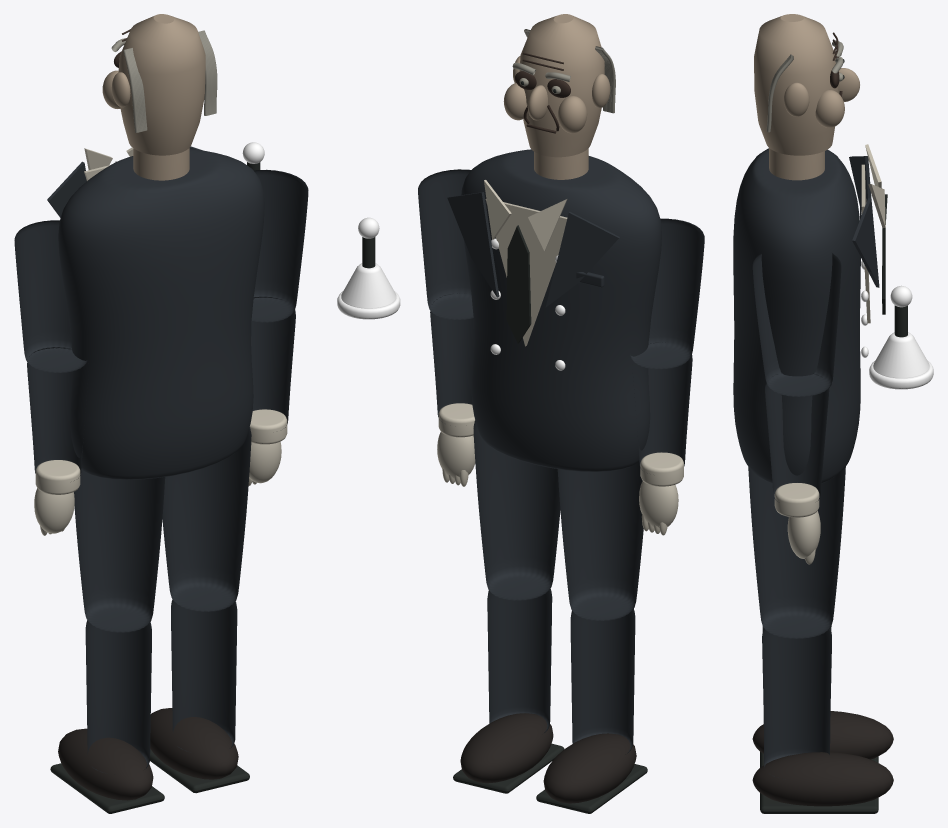
The model's file is butler.glb.
3 views of the same model, side by side, from view 1: azimuth 30°, elevation 25°; view 2: azimuth 150°, elevation 25°; view 3: azimuth 270°, elevation 25° (orthographic). The views are drawn at different scales.
Parts seen in each view (by area): view 1: ButlerJacket, ButlerTrouserL, ButlerTrouserR, ButlerSkull, ButlerLowerTrouserR, ButlerLowerTrouserL, ButlerSleeveL, ButlerSleeveR, ButlerShoeL, ButlerShoeR, ButlerCuffSleeveL, ButlerCuffSleeveR (+9 smaller); view 2: ButlerJacket, ButlerTrouserL, ButlerTrouserR, ButlerLowerTrouserL, ButlerLowerTrouserR, ButlerSkull, ButlerSleeveL, ButlerSleeveR, ButlerShoeL, ButlerShoeR, ButlerCuffSleeveL, ButlerCuffSleeveR (+17 smaller); view 3: ButlerJacket, ButlerTrouserR, ButlerSkull, ButlerLowerTrouserR, ButlerShoeR, ButlerSleeveR, ButlerCuffSleeveR, ButlerShoeL, Bell body, ButlerWhiteCuffR, ButlerNeck, ButlerSoleR (+12 smaller).
Boxes of the visible parts, x1,y1,x2,y2 form: ButlerJacket: (58, 149, 264, 479); ButlerTrouserL: (74, 469, 165, 632); ButlerTrouserR: (162, 427, 251, 611); ButlerSkull: (118, 14, 205, 155); ButlerLowerTrouserR: (171, 599, 237, 752); ButlerLowerTrouserL: (85, 620, 151, 773); ButlerSleeveL: (14, 220, 87, 372); ButlerSleeveR: (251, 169, 308, 322); ButlerShoeL: (58, 728, 153, 800); ButlerShoeR: (150, 708, 238, 779); ButlerCuffSleeveL: (27, 347, 88, 480); ButlerCuffSleeveR: (251, 296, 295, 427); ButlerJacket: (461, 149, 661, 471); ButlerTrouserL: (557, 462, 643, 620); ButlerTrouserR: (473, 420, 560, 600); ButlerLowerTrouserL: (570, 609, 635, 754); ButlerLowerTrouserR: (487, 589, 552, 732); ButlerSkull: (519, 14, 604, 157); ButlerSleeveL: (630, 218, 704, 369); ButlerSleeveR: (418, 169, 473, 320); ButlerShoeL: (543, 733, 636, 803); ButlerShoeR: (460, 713, 553, 783); ButlerCuffSleeveL: (632, 342, 692, 473); ButlerCuffSleeveR: (430, 293, 473, 422); ButlerJacket: (733, 148, 860, 482); ButlerTrouserR: (748, 465, 845, 638); ButlerSkull: (754, 14, 838, 155); ButlerLowerTrouserR: (762, 628, 831, 779); ButlerShoeR: (752, 752, 893, 806); ButlerSleeveR: (752, 252, 841, 396); ButlerCuffSleeveR: (765, 373, 829, 502); ButlerShoeL: (752, 711, 893, 759); Bell body: (873, 332, 929, 378); ButlerWhiteCuffR: (774, 483, 819, 517); ButlerNeck: (769, 148, 824, 180); ButlerSoleR: (760, 793, 878, 813).
Bounding box in the file's own units: 0.8116 × 1.9 × 0.4522.
